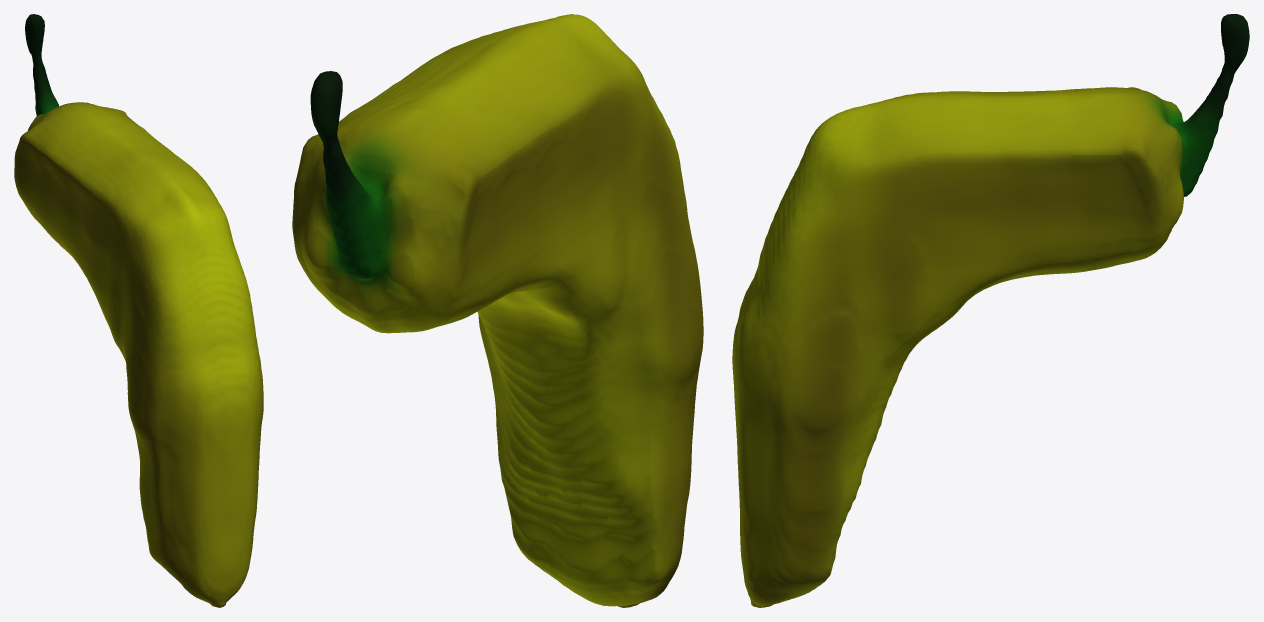
3 renders of one model, left to right at view 1: azimuth 30°, elevation 25°; view 2: azimuth 150°, elevation 25°; view 3: azimuth 270°, elevation 25°, orthographic. The views are drawn at different scales.
Visible parts, largest first — view 1: plyFile; view 2: plyFile; view 3: plyFile.
Boxes of the visible parts, x1=… form: plyFile: x1=14, y1=14, x2=263, y2=607; plyFile: x1=292, y1=14, x2=703, y2=607; plyFile: x1=732, y1=14, x2=1249, y2=607.
Size of the model in its own units: 53.3 by 198 by 157.
